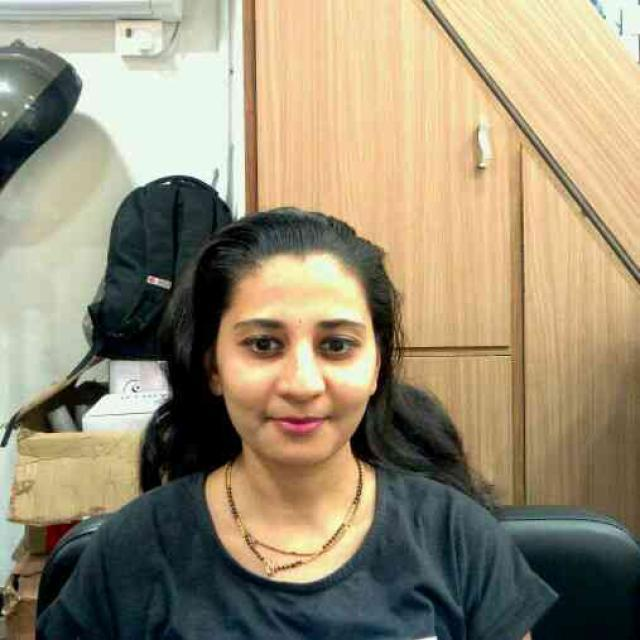puffy_eyes: (241, 349, 283, 362), (319, 353, 356, 363)
